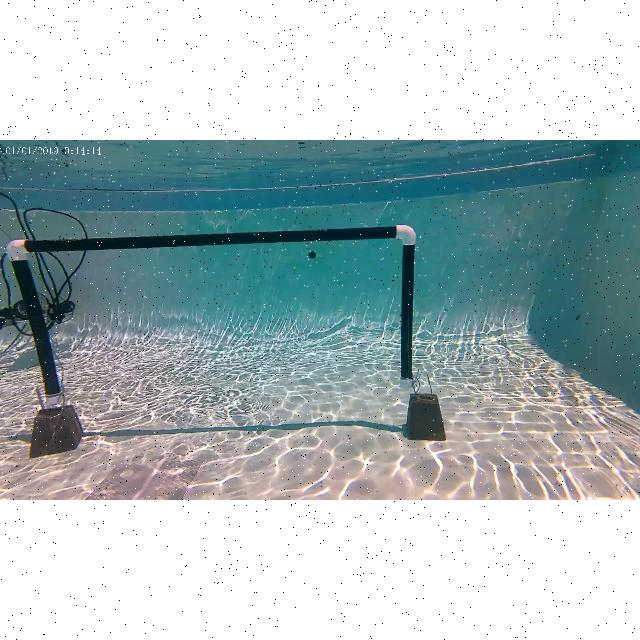prequal gate: (8, 224, 416, 406)
prequal gate leg l: (4, 233, 68, 414)
prequal gate leg r: (384, 220, 424, 402)
